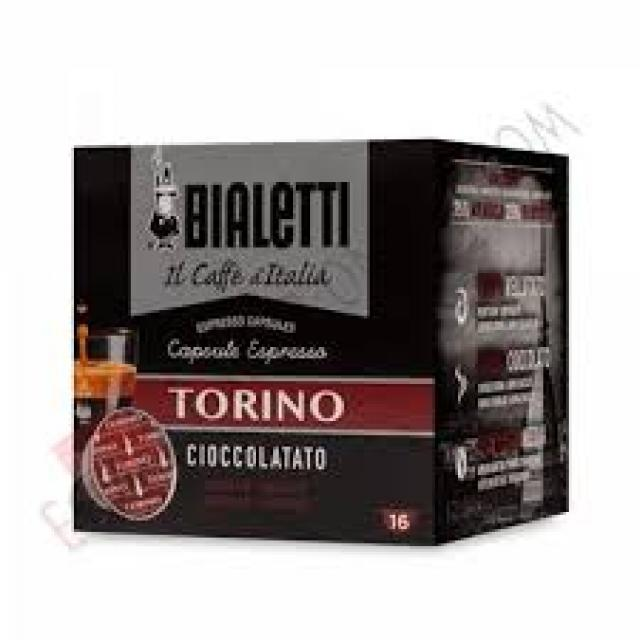coffee: (71, 139, 572, 549)
